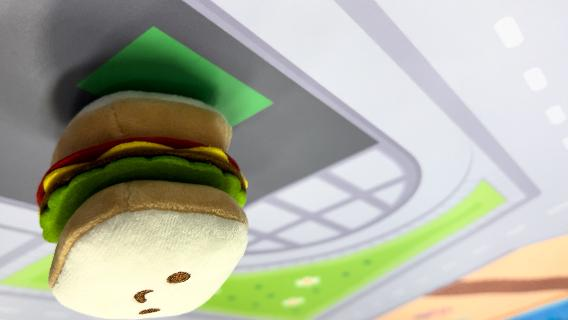sandwich: (34, 89, 252, 318)
